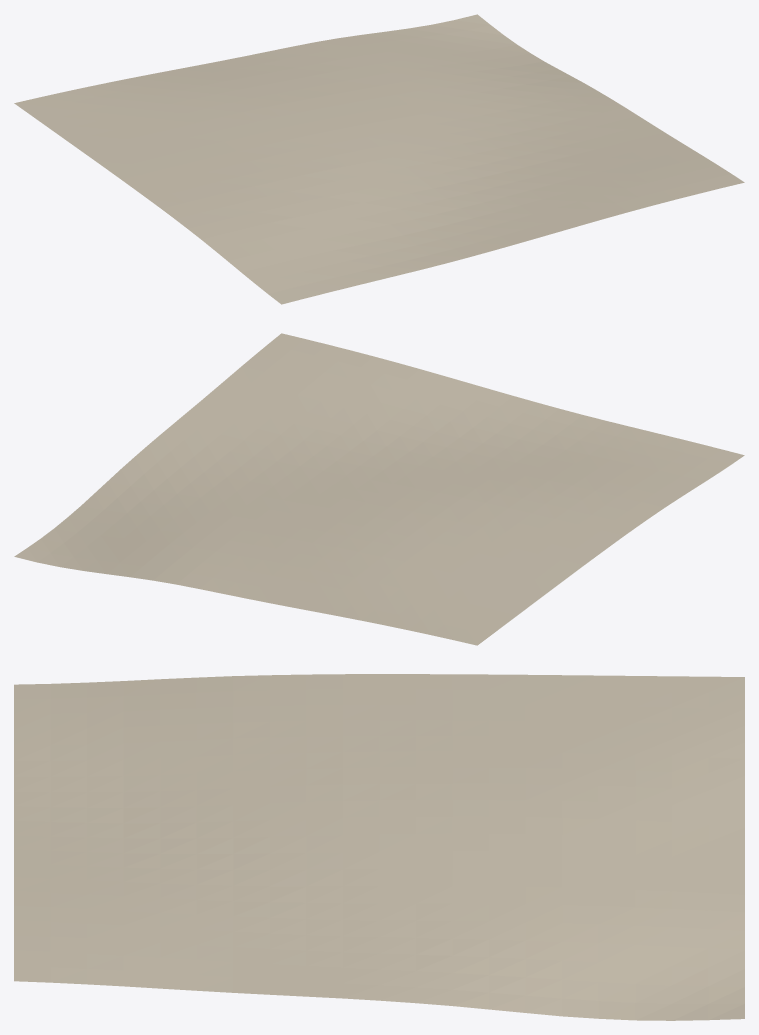
The model's file is bolak_-38_-7.glb.
The picture shows the model from 3 angles, top to bottom: view 1: azimuth 30°, elevation 25°; view 2: azimuth 150°, elevation 25°; view 3: azimuth 270°, elevation 25°; orthographic projection. The views are drawn at different scales.
Parts seen in each view (by area): view 1: Yer_Tuproq-col; view 2: Yer_Tuproq-col; view 3: Yer_Tuproq-col.
Part boxes in pixels (x1,y1,x2,y2): Yer_Tuproq-col: (14, 14, 744, 304); Yer_Tuproq-col: (14, 333, 744, 645); Yer_Tuproq-col: (14, 674, 744, 1020).
Bounding box in the file's own units: 400 × 23.99 × 400.
